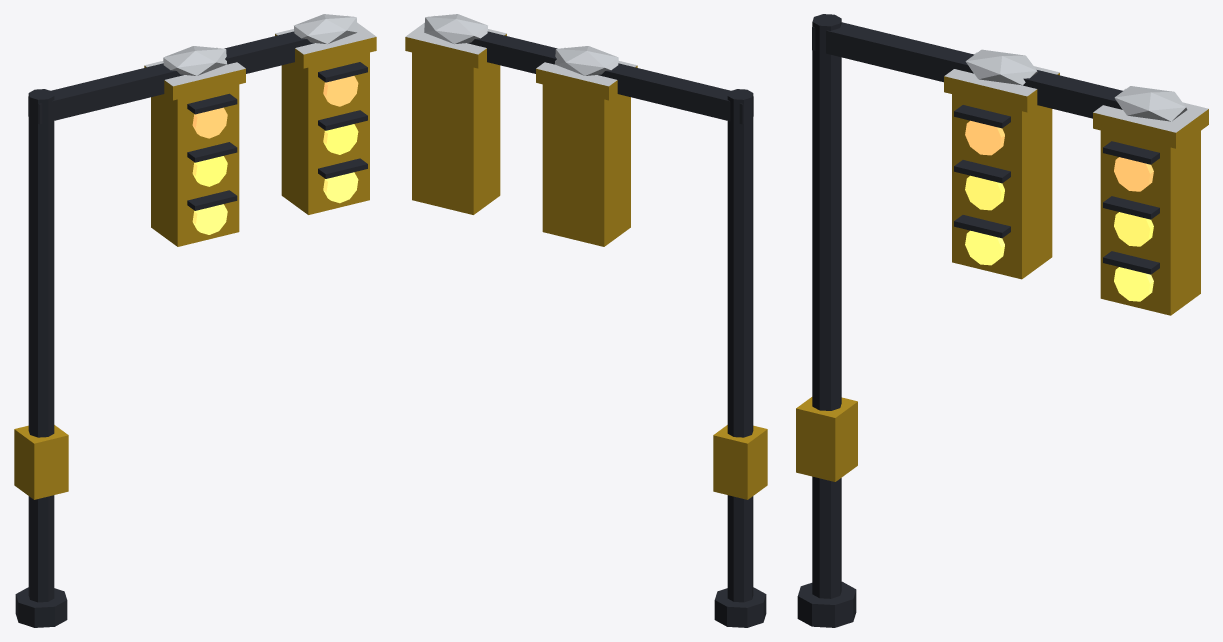
Rendered from TrafficLight.glb.
3 renders of one model, left to right at view 1: azimuth 30°, elevation 25°; view 2: azimuth 150°, elevation 25°; view 3: azimuth 330°, elevation 25°, orthographic. The views are drawn at different scales.
Visible parts, largest first — view 1: TrafficLight_Pole, TrafficLight_Glow; view 2: TrafficLight_Pole; view 3: TrafficLight_Pole, TrafficLight_Glow.
Part boxes in pixels (x1,y1,x2,y2): TrafficLight_Pole: (14, 14, 376, 627); TrafficLight_Glow: (192, 76, 358, 234); TrafficLight_Pole: (405, 14, 767, 627); TrafficLight_Pole: (796, 14, 1208, 627); TrafficLight_Glow: (965, 120, 1153, 301).
Bounding box in the file's own units: 8.95 × 13.15 × 1.6.
